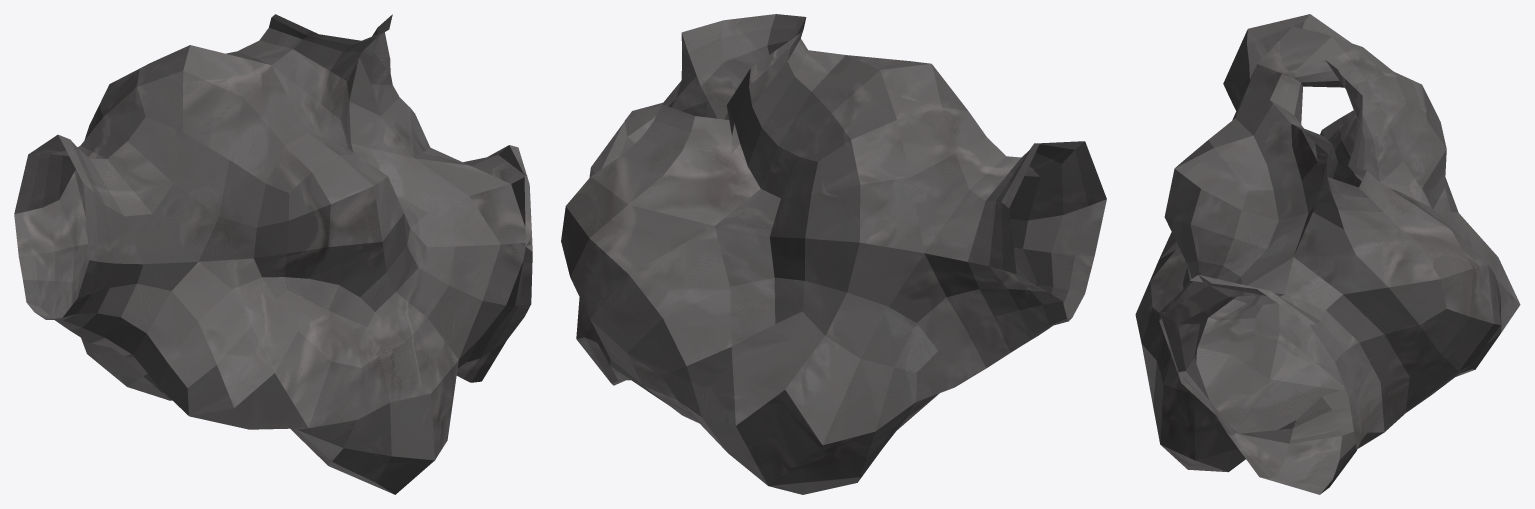
Rendered from Asteroide.fbx.
The picture shows the model from 3 angles, left to right: view 1: azimuth 30°, elevation 25°; view 2: azimuth 150°, elevation 25°; view 3: azimuth 270°, elevation 25°; orthographic projection. The views are drawn at different scales.
Parts seen in each view (by area): view 1: Icosphere; view 2: Icosphere; view 3: Icosphere.
Boxes of the visible parts, box(x1,y1,x2,y2) form: Icosphere: box(14, 14, 532, 494); Icosphere: box(561, 14, 1106, 494); Icosphere: box(1135, 14, 1520, 494).
Bounding box in the file's own units: 482 × 428 × 382.
Materials: 1 (1 with a texture image).
